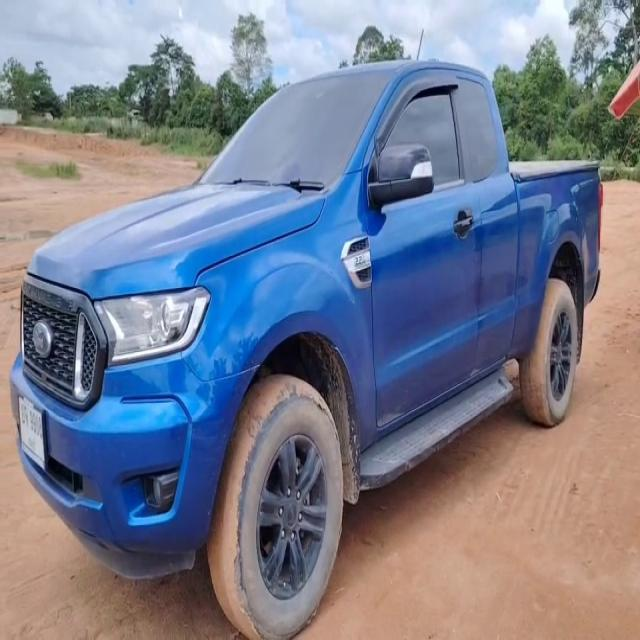Digit: (29, 407, 42, 440)
Licenseplate: (18, 394, 46, 471)
Provincename: (28, 434, 37, 455)
Thaichar: (21, 401, 29, 429)
